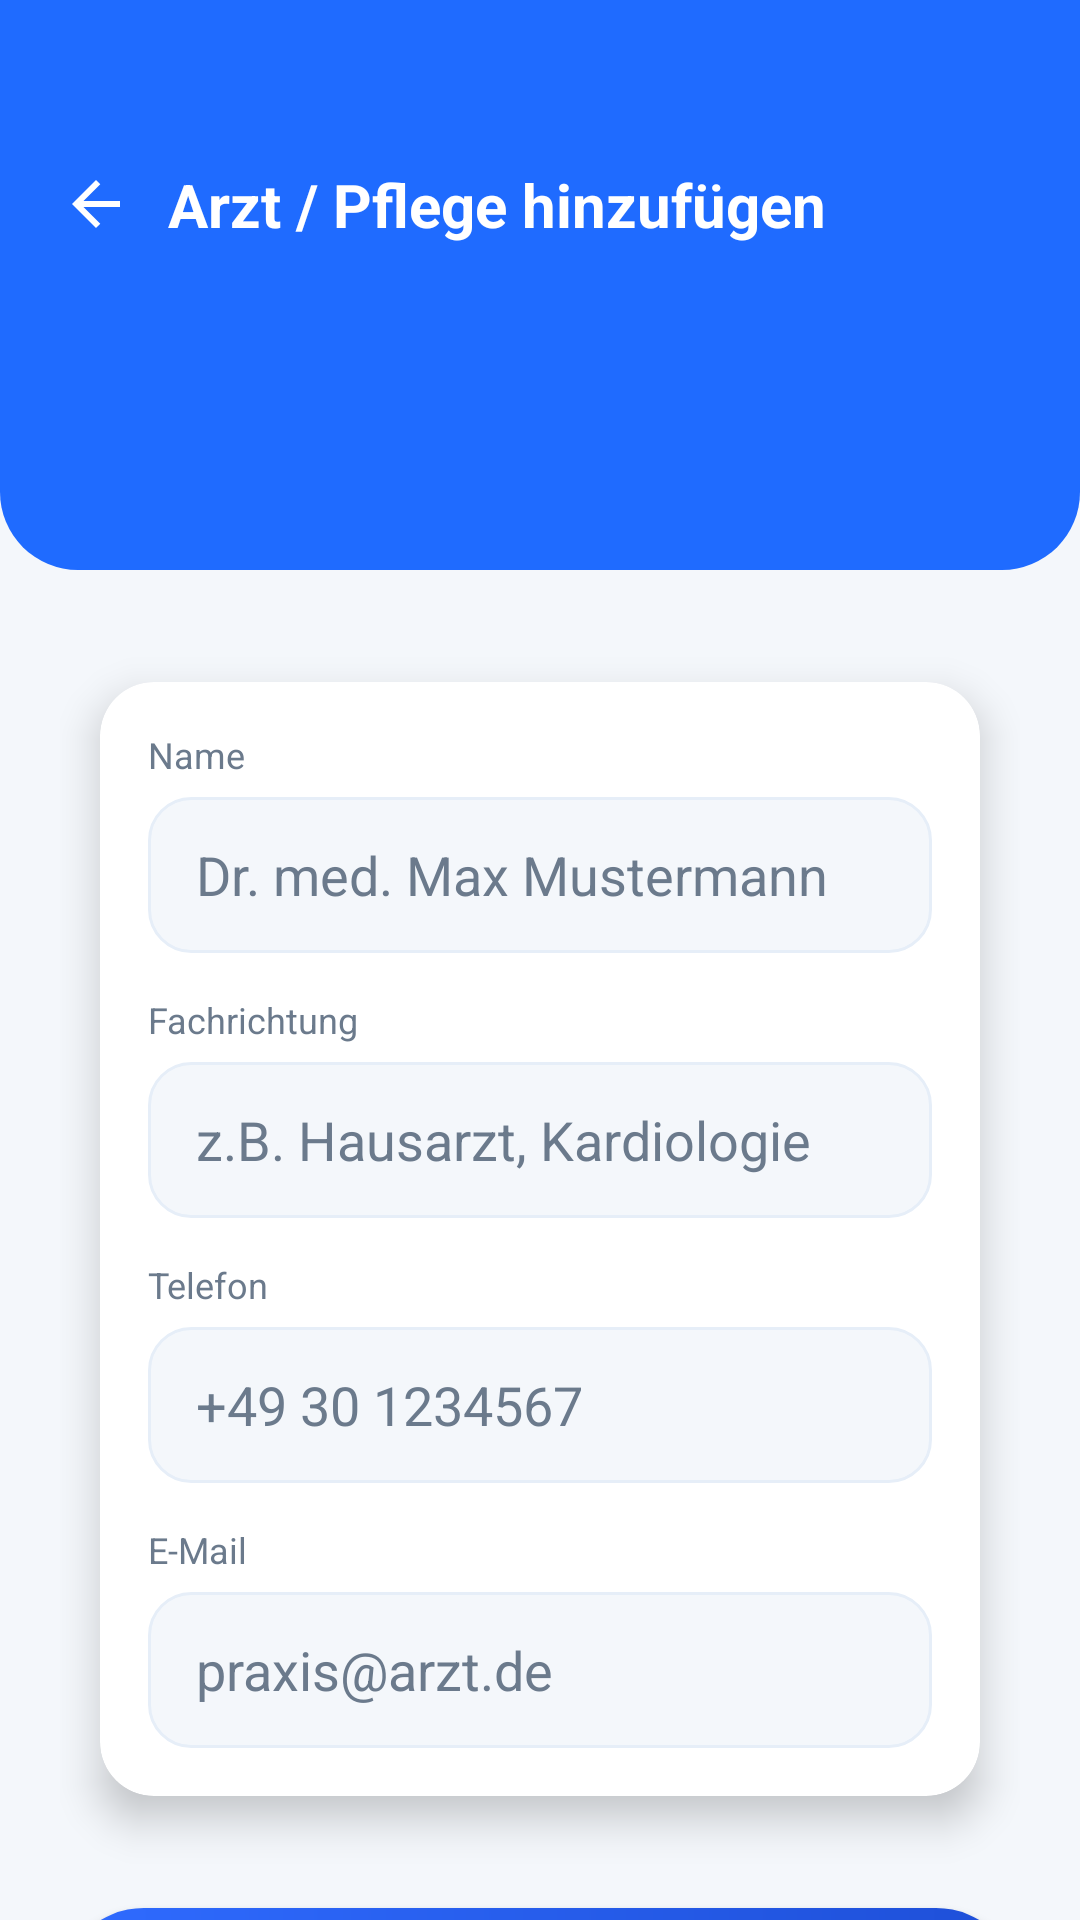

Icon bounding boxes for this 1080x1920 phone screenshot, format [x1=x1, y1=y1, x2=x2, y2=y2]:
back: [x1=72, y1=180, x2=120, y2=228]
